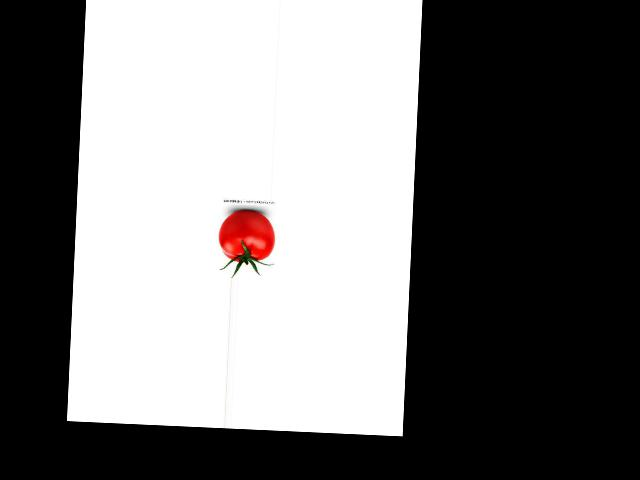tomato: (217, 210, 275, 263)
